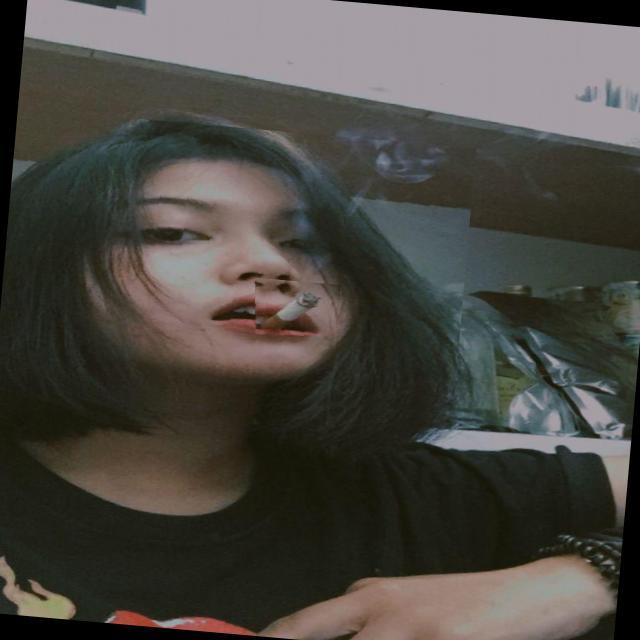cigarette: (250, 278, 340, 340)
